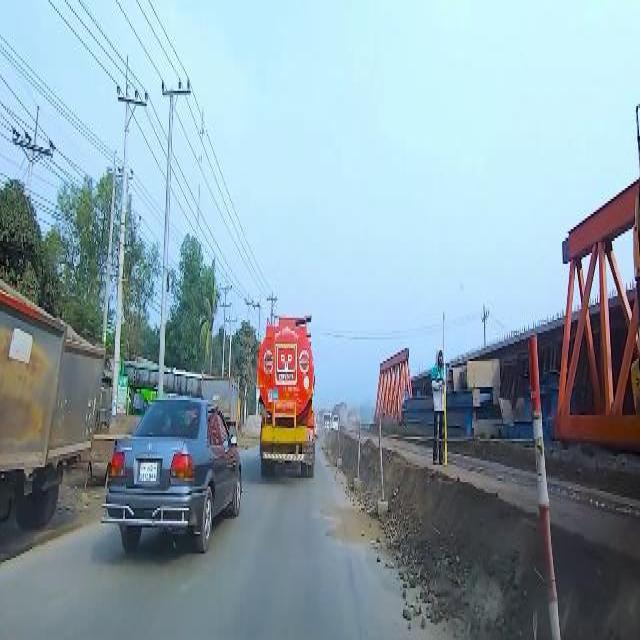bus: (121, 352, 198, 392), (337, 398, 346, 424)
car: (102, 396, 244, 542)
truck: (1, 277, 100, 525), (254, 305, 315, 476), (322, 409, 329, 428), (331, 411, 336, 426)
